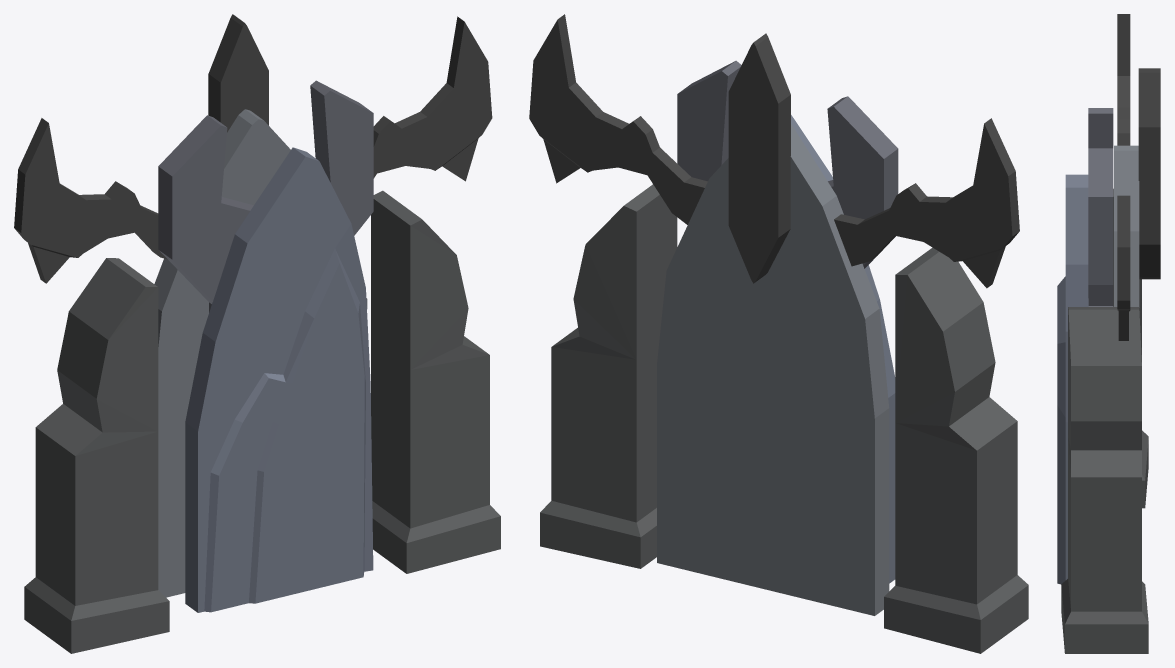
Rendered from throne_04.FBX.
3 views of the same model, side by side, from view 1: azimuth 30°, elevation 25°; view 2: azimuth 150°, elevation 25°; view 3: azimuth 270°, elevation 25° (orthographic). The views are drawn at different scales.
Visible parts, largest first — view 1: throne_04; view 2: throne_04; view 3: throne_04.
Boxes of the visible parts, x1,y1,x2,y2 form: throne_04: [14, 14, 500, 653]; throne_04: [529, 14, 1028, 653]; throne_04: [1057, 14, 1160, 653].
Size of the model in its own units: 251 by 280 by 53.35.
